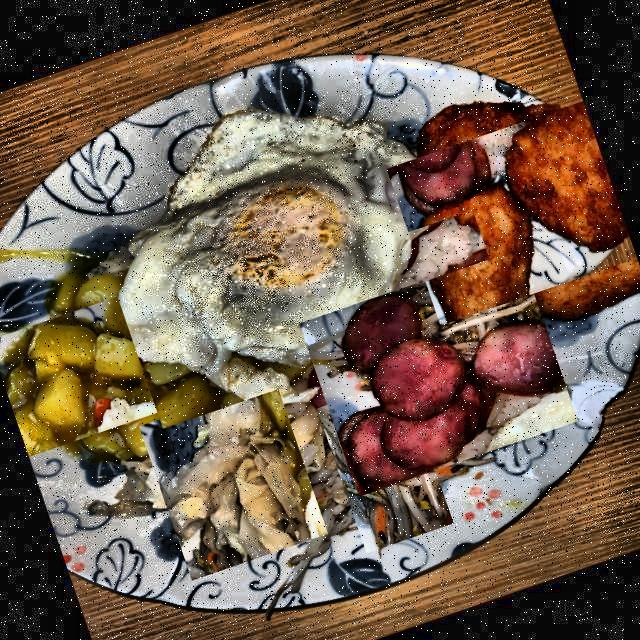Food: (76, 71, 468, 428), (298, 248, 578, 497), (398, 82, 640, 338), (0, 267, 190, 474), (136, 382, 332, 578), (307, 388, 463, 544), (402, 210, 489, 282)
